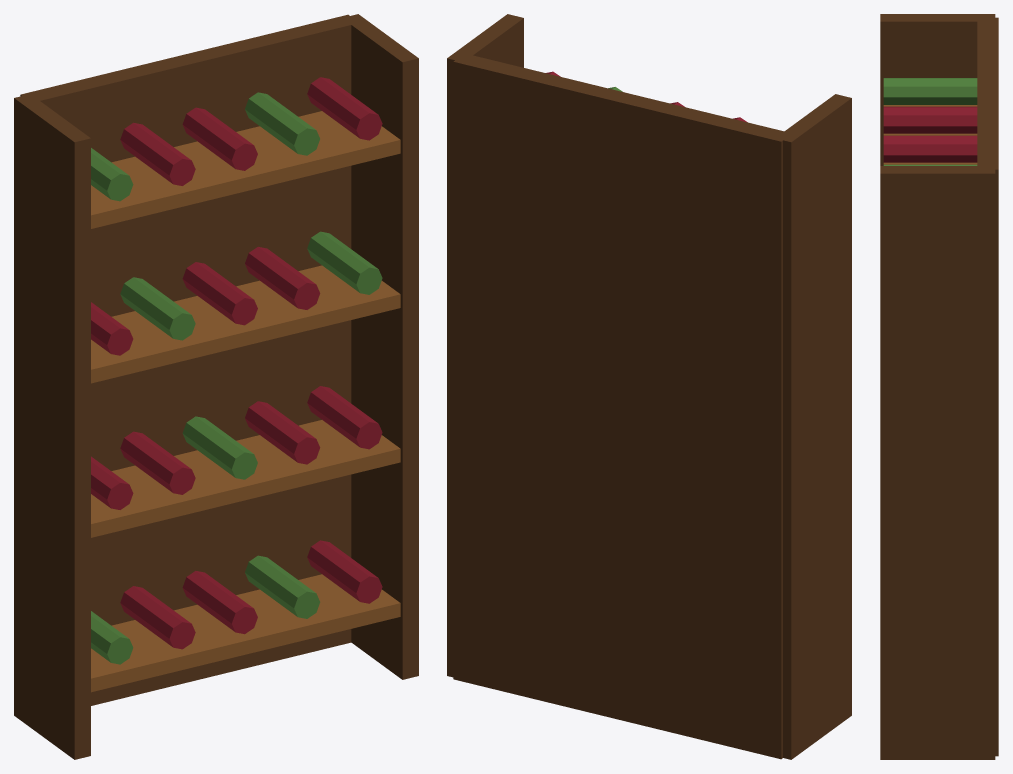
Rendered from PR_Decor_SarapRafi.fbx.
3 views of the same model, side by side, from view 1: azimuth 30°, elevation 25°; view 2: azimuth 150°, elevation 25°; view 3: azimuth 270°, elevation 25° (orthographic). The views are drawn at different scales.
Parts seen in each view (by area): view 1: PR_Decor_SarapRafi; view 2: PR_Decor_SarapRafi; view 3: PR_Decor_SarapRafi.
Boxes of the visible parts, x1,y1,x2,y2 form: PR_Decor_SarapRafi: (14,14,418,759); PR_Decor_SarapRafi: (447,14,851,759); PR_Decor_SarapRafi: (880,14,998,759).
Bounding box in the file's own units: 1.05 × 1.8 × 0.33.
Materials: 1 (1 with a texture image).
